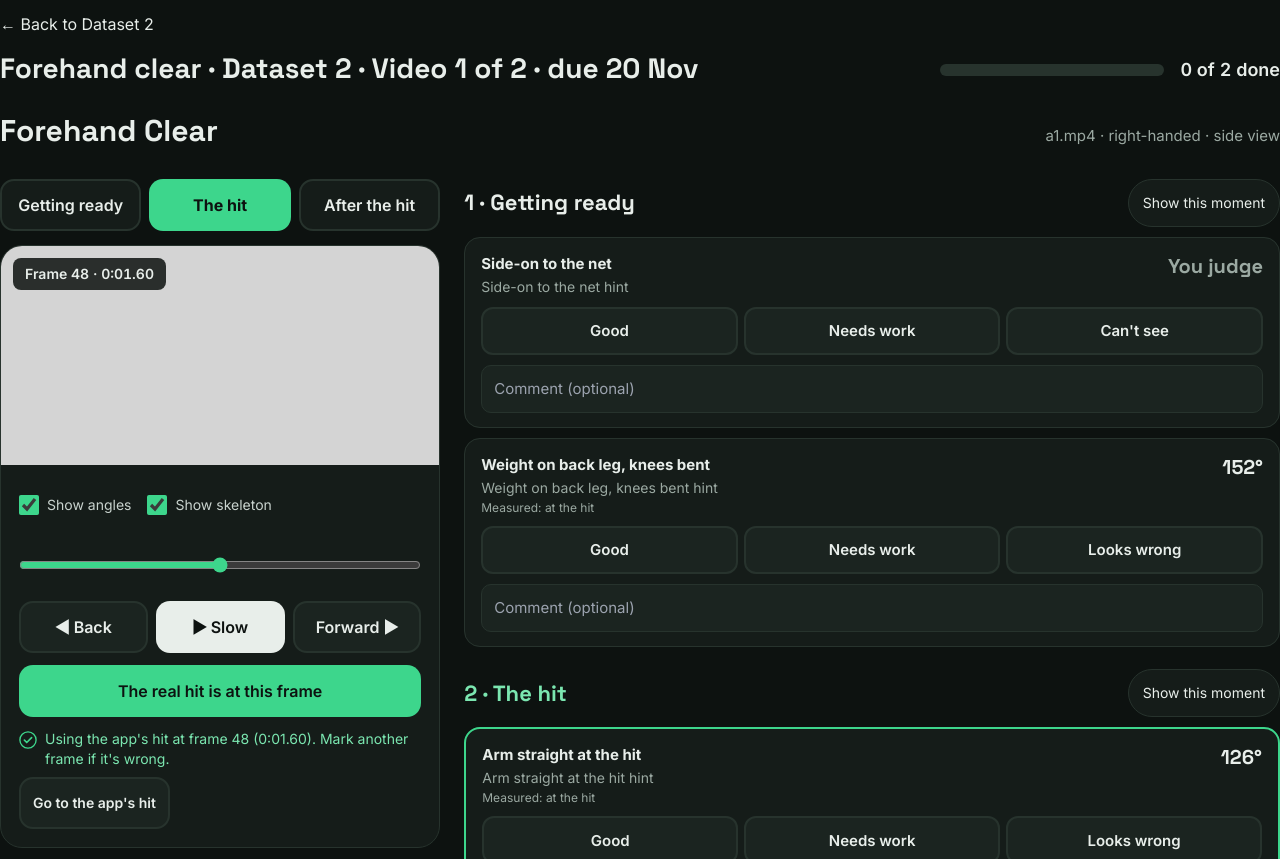
Test case: LabellingWorkspace › moment tabs seek the video and highlight that moment's questions
Check: the tab "The hit" is shown, box [149,178,291,230]
What coordinates should you click on to do the following:
click the tab "Getting ready"
I would click on:
 (71, 204)
Its box is [0,178,141,230].
(page scrolled)
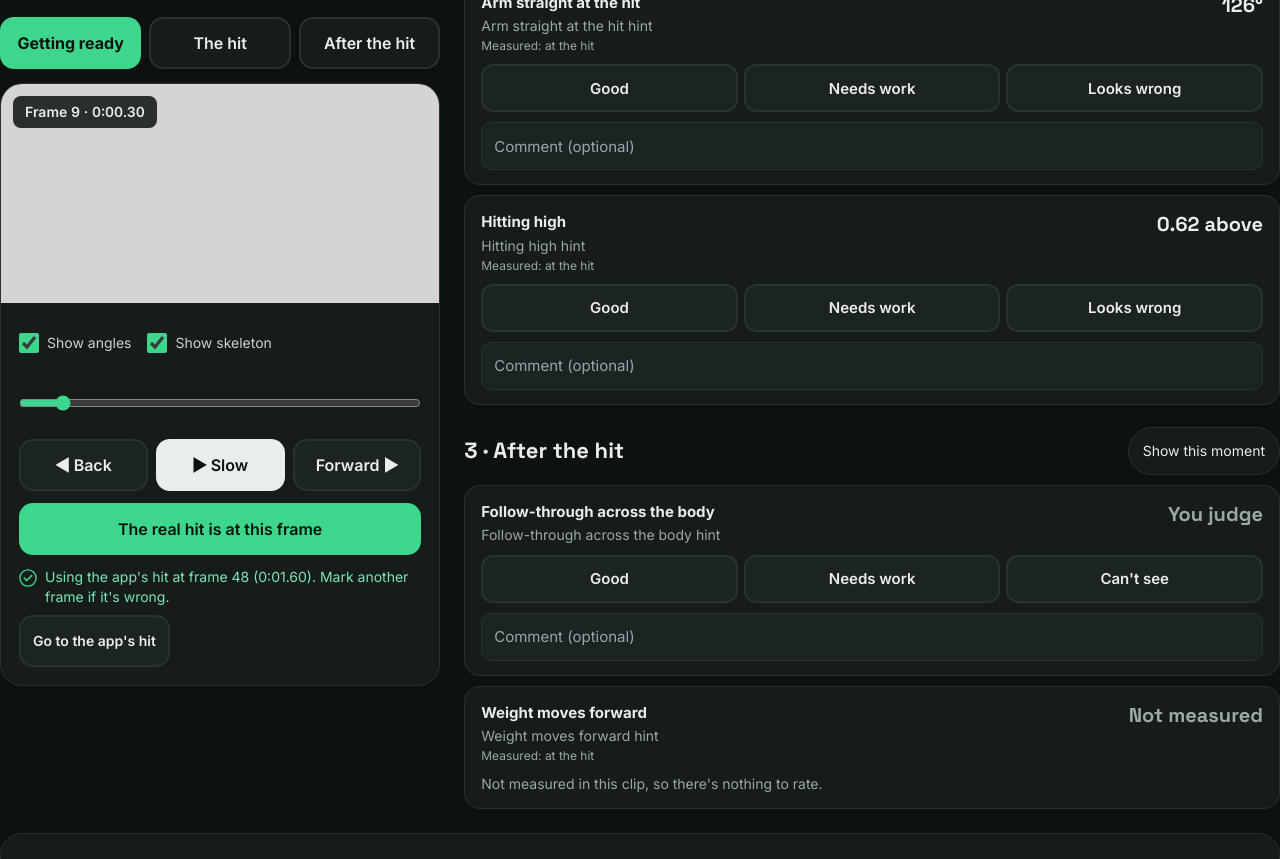
Check: the text "Frame 9 · 0:00.30" is shown, box [13,95,157,127]
What coordinates should you click on to do the following:
click the button with aria-label "Show this moment: After the hit"
I would click on:
 (1204, 450)
Its box is [1128,426,1279,474].
(page scrolled)
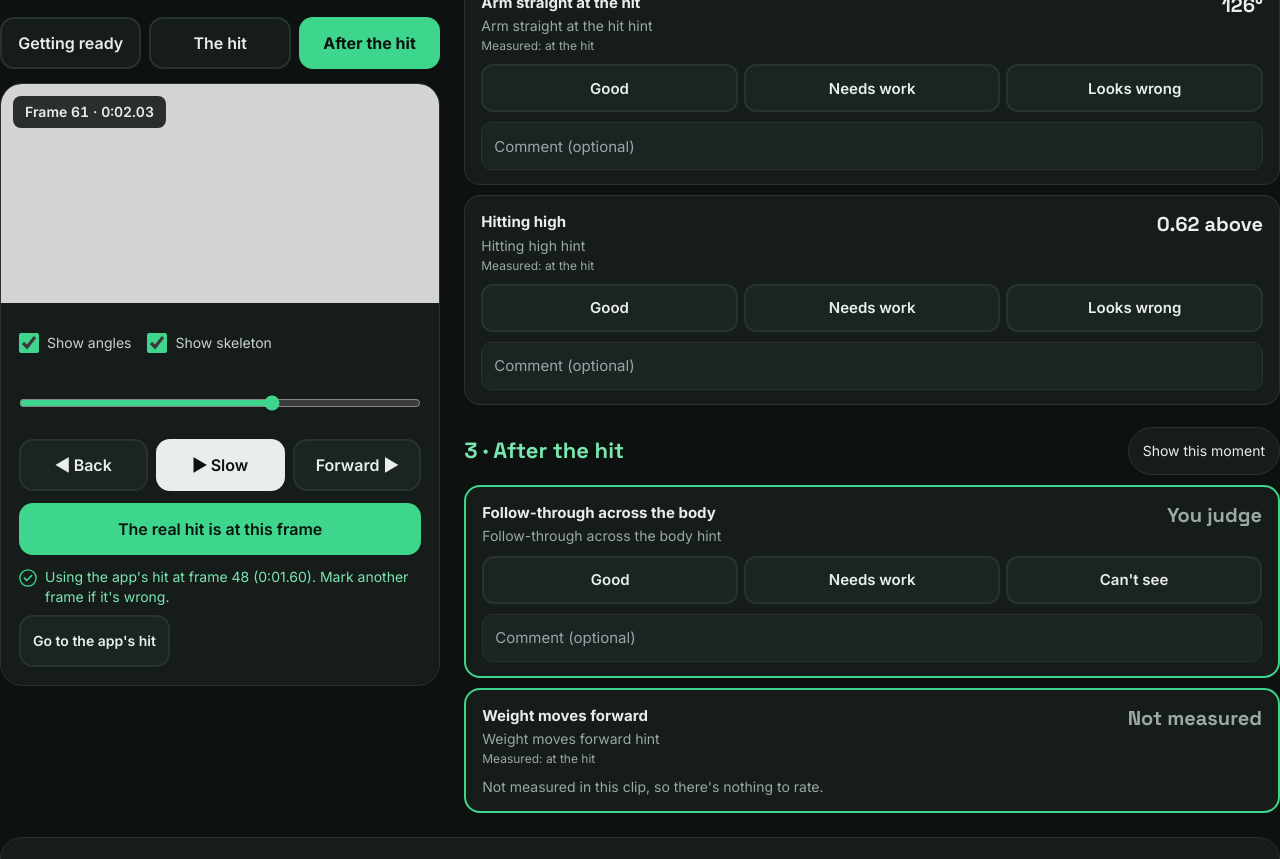
Check: the text "Frame 61 · 0:02.03" is shown, box [13,95,166,127]
